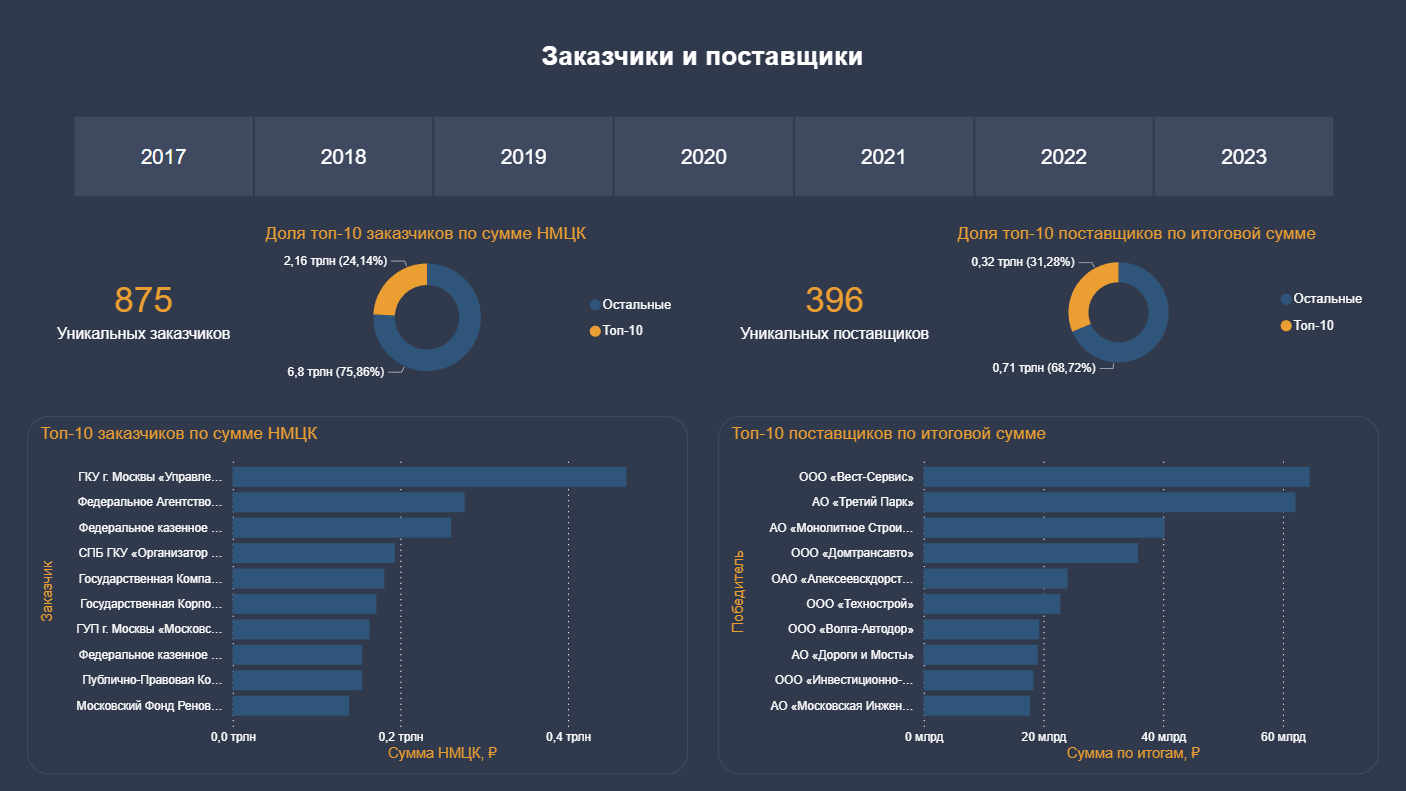

The page's visual inventory and layout, read from the dashboard file:
{"tool":"powerbi","page":{"name":"Заказчики и поставщики","canvas":[1280,720],"ordinal":1},"visuals":[{"type":"slicer","fields":{"Values":["public dim_date.year"]},"box":[43,100,1194,86],"z":0},{"type":"textbox","box":[409.4,33,461.4,44.9],"z":1000},{"type":"card","fields":{"Values":["public fact_tenders.Уникальные заказчики"]},"box":[25,214,212,134],"z":2000},{"type":"card","fields":{"Values":["public fact_tenders.Уникальные поставщики"]},"box":[654,214,212,134],"z":3000},{"type":"clusteredBarChart","title":"Топ-10 заказчиков по сумме НМЦК","fields":{"Category":["public dim_customer.Заказчик"],"Y":["public fact_tenders.Сумма НМЦК, ₽"]},"box":[25,379,601,326],"z":4000},{"type":"clusteredBarChart","title":"Топ-10 поставщиков по итоговой сумме","fields":{"Y":["public fact_tenders.Сумма по итогам, ₽"],"Category":["public dim_winner.Победитель"]},"box":[654,379,601,326],"z":5000},{"type":"donutChart","title":"Доля топ-10 поставщиков по итоговой сумме","fields":{"Category":["T_concentration_winner.Категория"],"Y":["public fact_tenders.Значение концентрации поставщиков"]},"box":[866.3,204.7,387.8,143.6],"z":6000},{"type":"donutChart","title":"Доля топ-10 заказчиков по сумме НМЦК","fields":{"Category":["T_concentration_customer.Категория"],"Y":["public fact_tenders.Значение концентрации заказчиков"]},"box":[237,204.7,388.7,152.6],"z":7000}]}

Visuals, with their boxes in screenshot pixels (x1, y1, x2, y2), scaled from the page's 1280x720 canvas onto the 1406x791 screenshot:
slicer - public dim_date.year: x1=47, y1=110, x2=1359, y2=204
textbox: x1=450, y1=36, x2=957, y2=86
card - public fact_tenders.Уникальные заказчики: x1=27, y1=235, x2=260, y2=382
card - public fact_tenders.Уникальные поставщики: x1=718, y1=235, x2=951, y2=382
"Топ-10 заказчиков по сумме НМЦК" clusteredBarChart: x1=27, y1=416, x2=688, y2=775
"Топ-10 поставщиков по итоговой сумме" clusteredBarChart: x1=718, y1=416, x2=1379, y2=775
"Доля топ-10 поставщиков по итоговой сумме" donutChart: x1=952, y1=225, x2=1378, y2=383
"Доля топ-10 заказчиков по сумме НМЦК" donutChart: x1=260, y1=225, x2=687, y2=393
